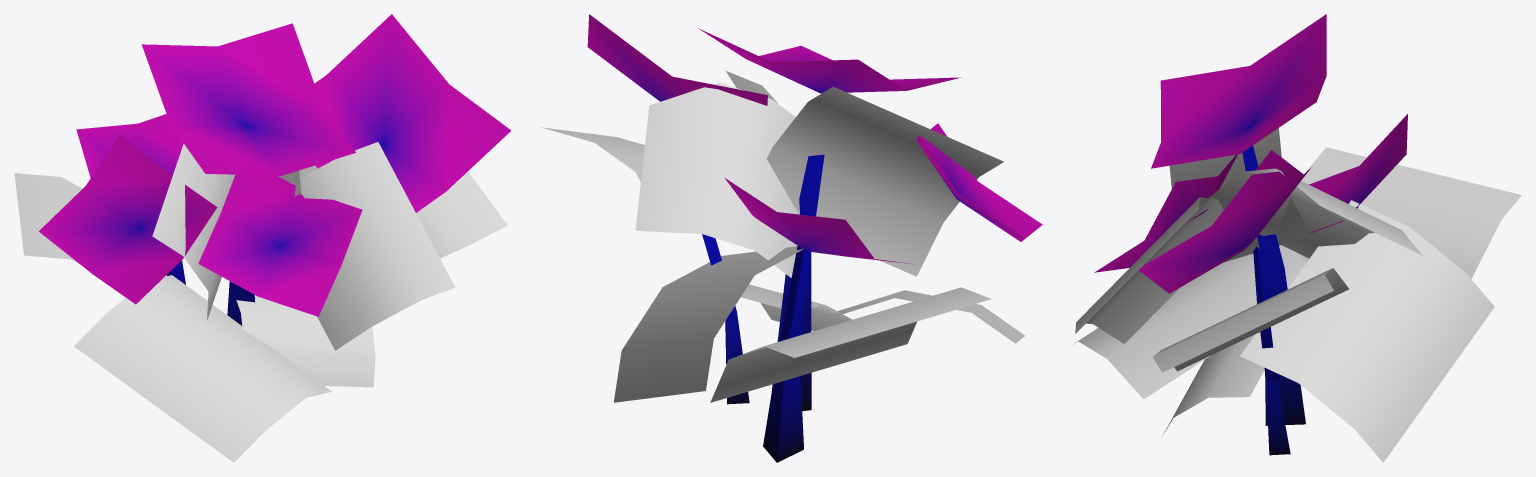
Rendered from Flower_07.fbx.
The picture shows the model from 3 angles, left to right: view 1: azimuth 30°, elevation 25°; view 2: azimuth 150°, elevation 25°; view 3: azimuth 270°, elevation 25°; orthographic projection. The views are drawn at different scales.
Parts seen in each view (by area): view 1: Flower_07; view 2: Flower_07; view 3: Flower_07.
Part boxes in pixels (x1,y1,x2,y2): Flower_07: (14, 14, 511, 462); Flower_07: (541, 14, 1042, 462); Flower_07: (1072, 14, 1521, 462).
Bounding box in the file's own units: 0.4275 × 0.3355 × 0.3688.
